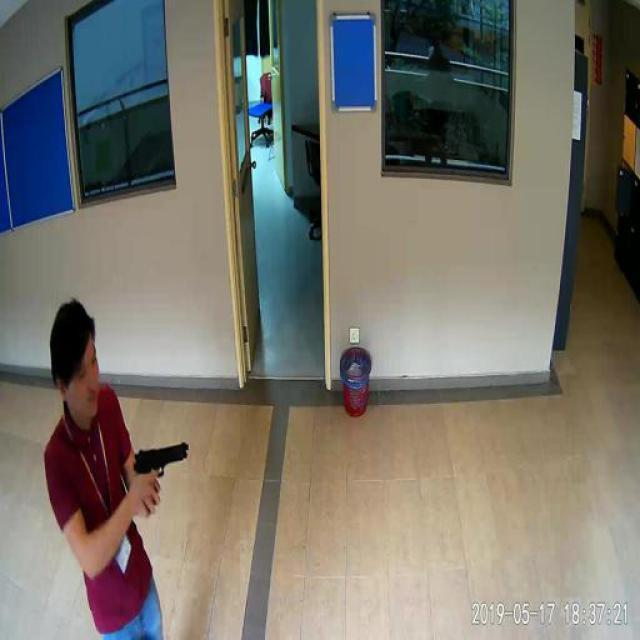weapon: (130, 440, 190, 510)
